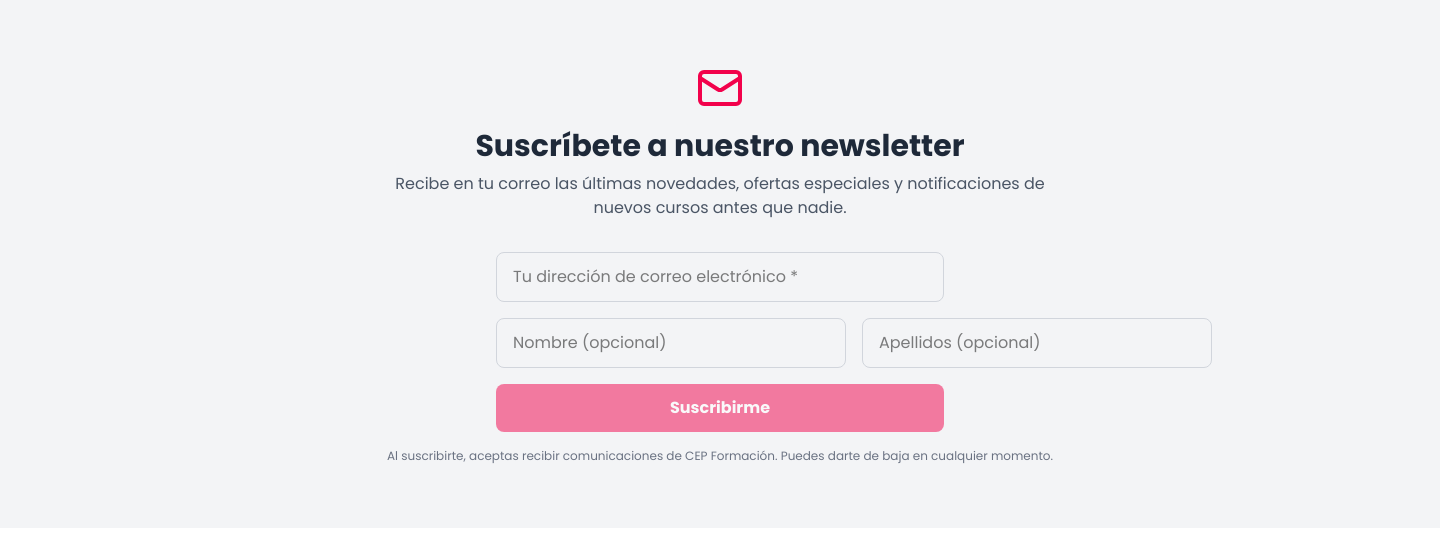
Test case: NewsletterSection › enables submit button when email is provided
The width and height of the screenshot is (1440, 545).
Type "test@example.com" into the field with test id "email-input" at (720, 277), box [496,252,944,302]
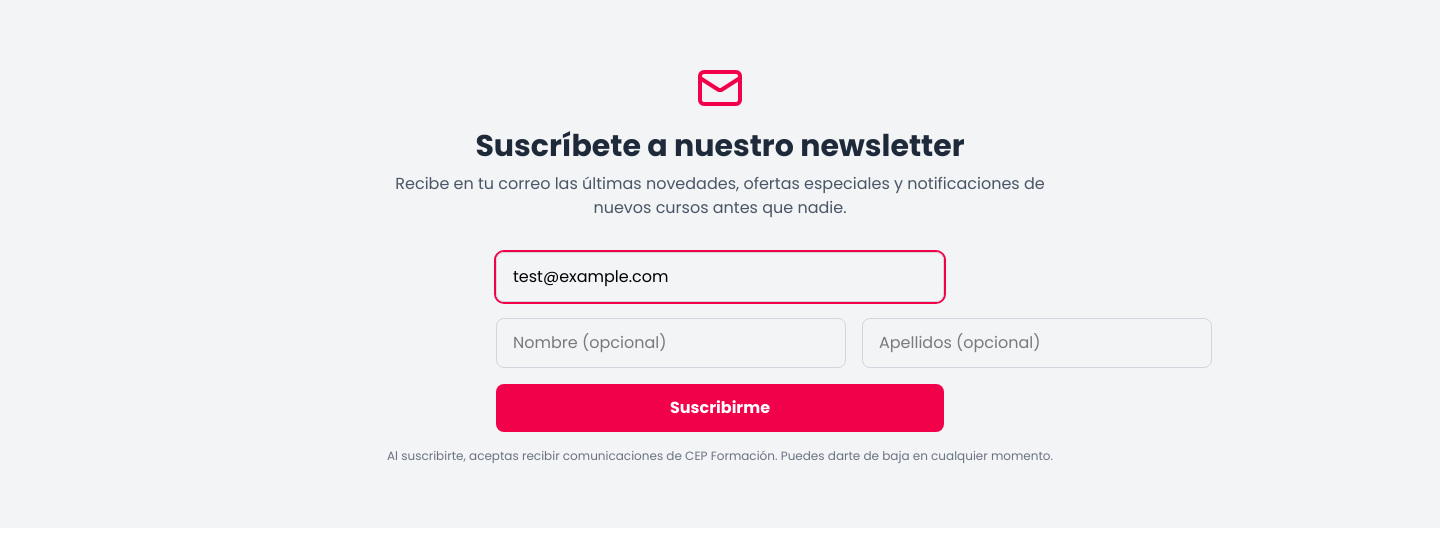
Check: the button with test id "submit-button" is enabled, box [496,384,944,432]
